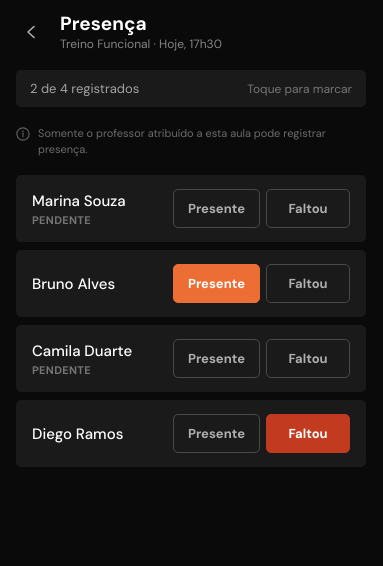
Test: Presença (professor) › desfaz a marcação e avisa quando o servidor recusa
The width and height of the screenshot is (383, 566).
expect the text "2 de 4 registrados" is shown: met, box [30,80,139,97]
Click the button "Presente" next to "Marina Souza" at (216, 208), box [173,189,260,228]
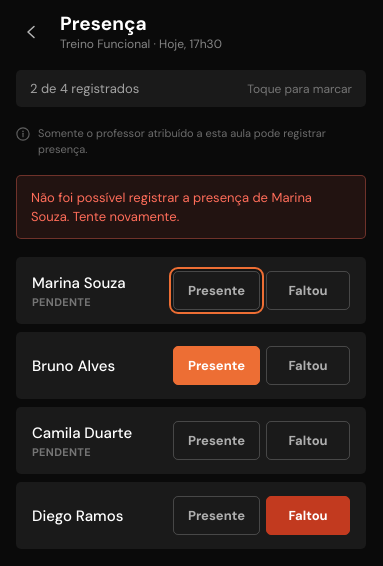
expect the 1st text "PENDENTE" is shown: met, box [32,294,91,308]
expect the message reads "Não foi possível registrar a presença de Marina Souza. Tente novamente.": met, box [31,189,312,225]
